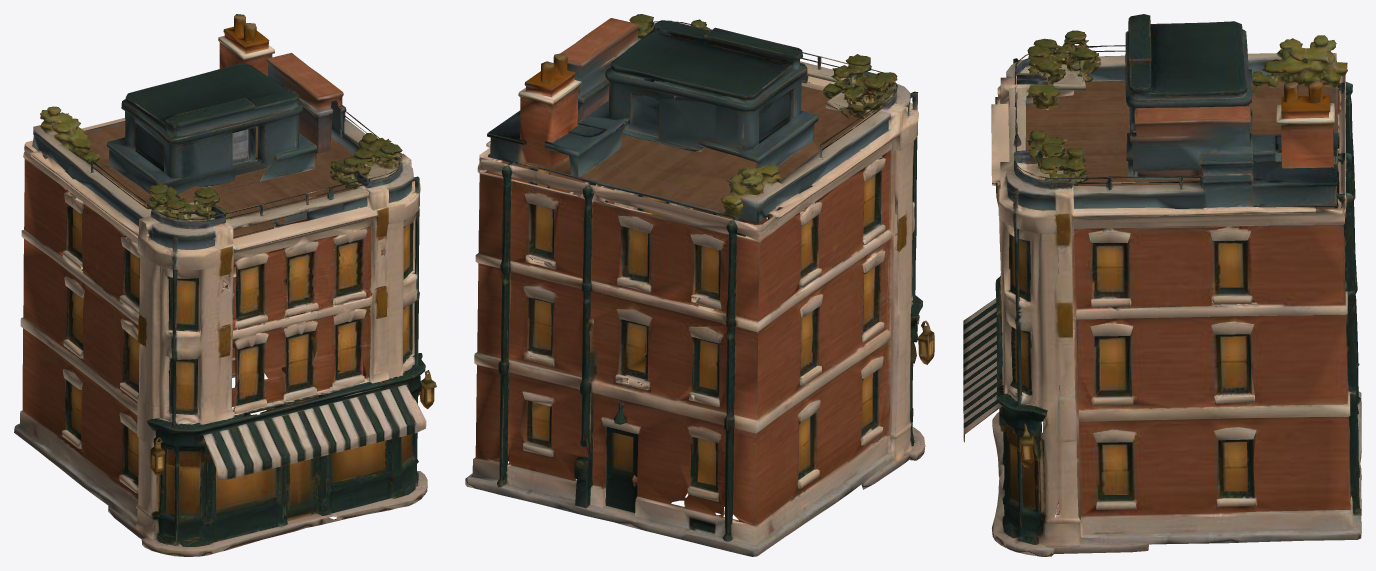
3 renders of one model, left to right at view 1: azimuth 30°, elevation 25°; view 2: azimuth 150°, elevation 25°; view 3: azimuth 270°, elevation 25°, orthographic. The views are drawn at different scales.
Parts seen in each view (by area): view 1: expansion__shop_3__native_mobile; view 2: expansion__shop_3__native_mobile; view 3: expansion__shop_3__native_mobile.
Boxes of the visible parts, x1=… form: expansion__shop_3__native_mobile: x1=14, y1=14, x2=436, y2=556; expansion__shop_3__native_mobile: x1=465, y1=14, x2=934, y2=556; expansion__shop_3__native_mobile: x1=963, y1=14, x2=1361, y2=556.
Size of the model in its own units: 0.7552 by 1 by 0.8206.
Materials: 1 (1 with a texture image).
